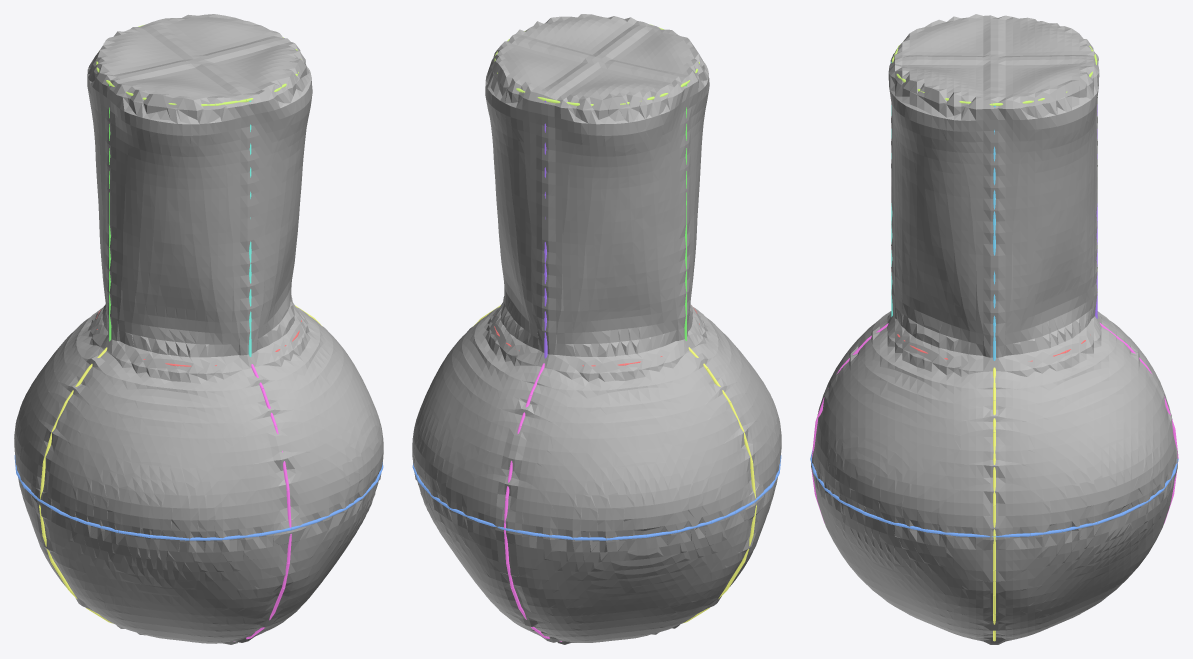
Rendered from flowrep_spherecylinder.gltf.
3 views of the same model, side by side, from view 1: azimuth 30°, elevation 25°; view 2: azimuth 150°, elevation 25°; view 3: azimuth 270°, elevation 25° (orthographic).
Size of the model in its own units: 0.456 by 0.7848 by 0.4564.
